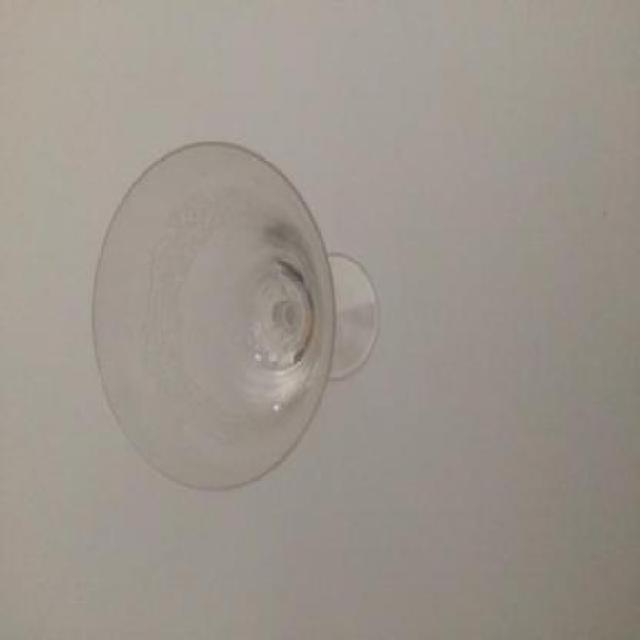kaca: (94, 140, 378, 485)
